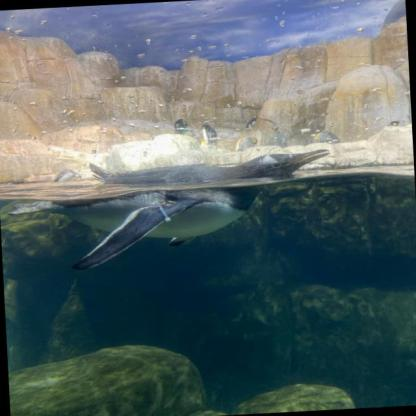penguin: (17, 140, 341, 266), (266, 122, 288, 153), (199, 122, 222, 150), (314, 126, 346, 145), (234, 132, 257, 152), (172, 117, 190, 138), (384, 116, 402, 132)
